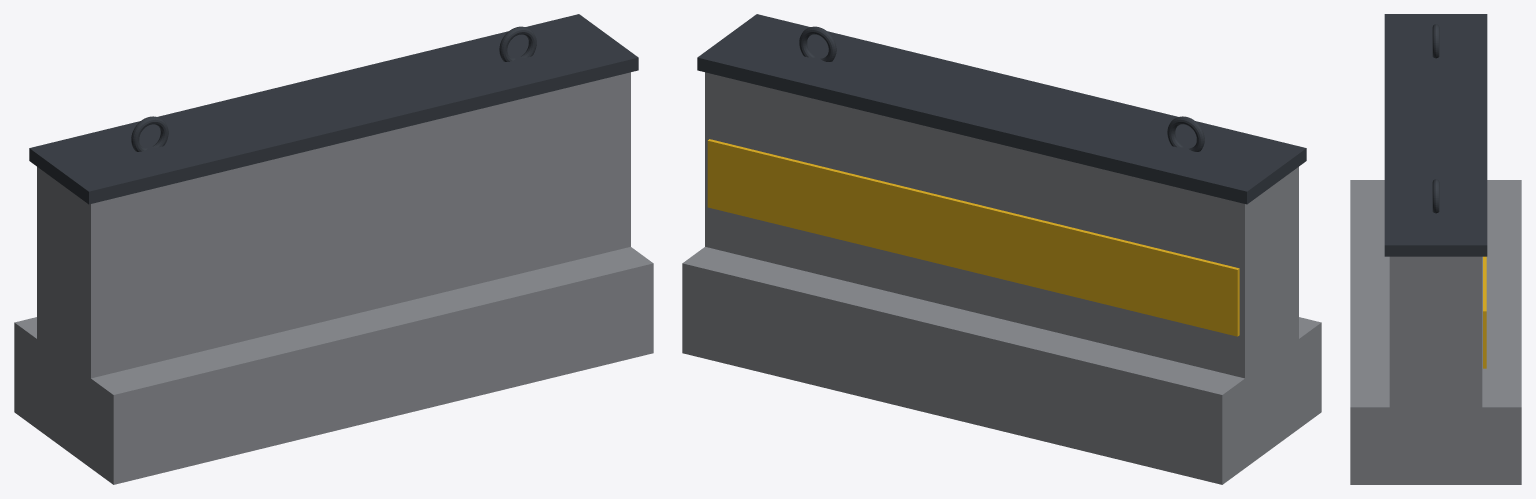
Rendered from Warehouse_Security_Barrier.obj.
3 views of the same model, side by side, from view 1: azimuth 30°, elevation 25°; view 2: azimuth 150°, elevation 25°; view 3: azimuth 270°, elevation 25° (orthographic). The views are drawn at different scales.
Visible parts, largest first — view 1: Barrier_Wall, Barrier_Base, Barrier_Cap_Rail, Lifting_Eyelet_-0.75, Lifting_Eyelet_0.75; view 2: Barrier_Base, Barrier_Wall, Barrier_Cap_Rail, Barrier_Stripe_Plate, Lifting_Eyelet_-0.75, Lifting_Eyelet_0.75; view 3: Barrier_Base, Barrier_Cap_Rail, Barrier_Wall, Barrier_Stripe_Plate, Lifting_Eyelet_-0.75, Lifting_Eyelet_0.75.
Part boxes in pixels (box(x1,y1,x2,y2)): Barrier_Wall: box(37, 72, 630, 378); Barrier_Base: box(14, 247, 653, 484); Barrier_Cap_Rail: box(29, 14, 638, 204); Lifting_Eyelet_-0.75: box(131, 116, 168, 151); Lifting_Eyelet_0.75: box(499, 26, 536, 61); Barrier_Base: box(682, 247, 1321, 484); Barrier_Wall: box(705, 72, 1298, 378); Barrier_Cap_Rail: box(697, 14, 1306, 204); Barrier_Stripe_Plate: box(707, 139, 1239, 336); Lifting_Eyelet_-0.75: box(1167, 116, 1204, 151); Lifting_Eyelet_0.75: box(799, 26, 836, 61); Barrier_Base: box(1350, 180, 1521, 484); Barrier_Cap_Rail: box(1384, 14, 1487, 256); Barrier_Wall: box(1389, 256, 1482, 408); Barrier_Stripe_Plate: box(1483, 256, 1486, 368); Lifting_Eyelet_-0.75: box(1432, 24, 1439, 58); Lifting_Eyelet_0.75: box(1432, 179, 1439, 213).
Size of the model in its own units: 2.24 by 1.21 by 0.7.
